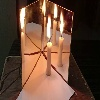fire: (47, 15, 52, 45)
